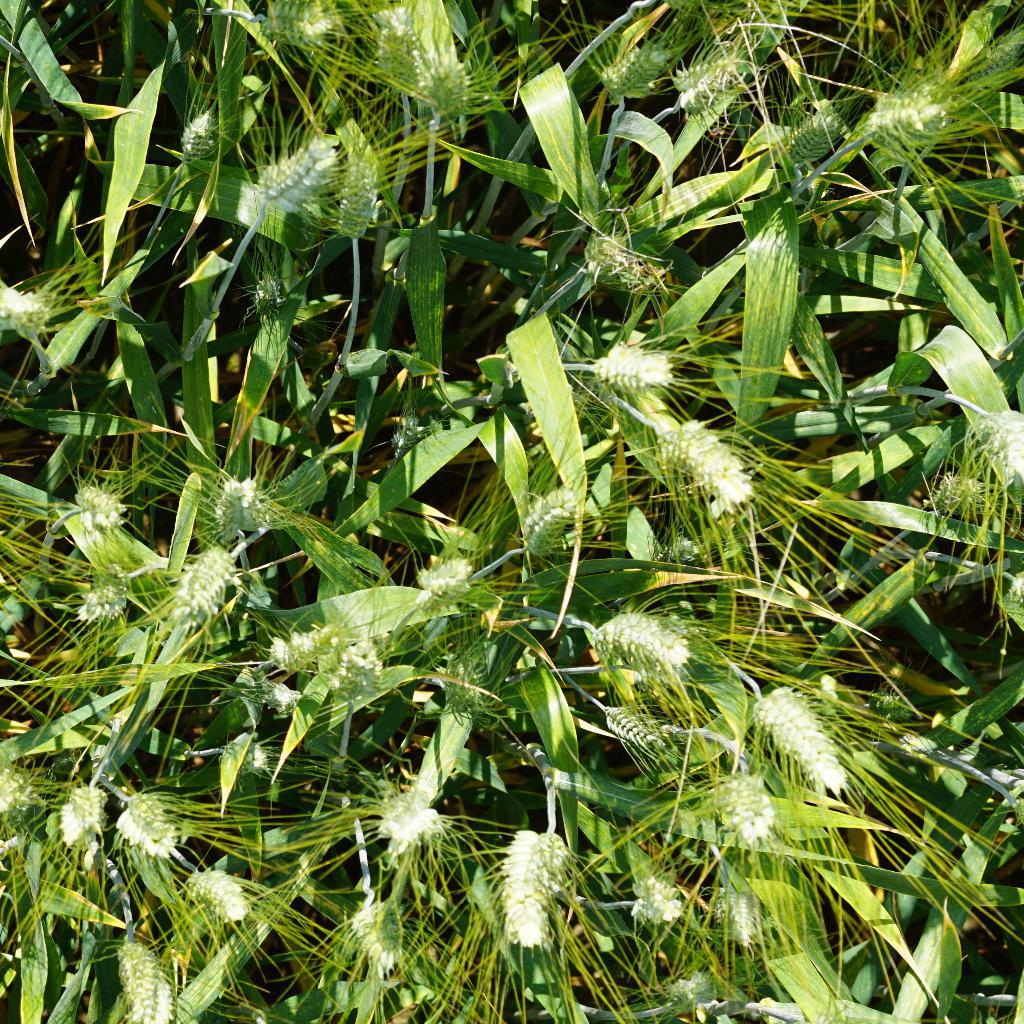0-0: (744, 665, 859, 808), (645, 407, 766, 514), (500, 811, 574, 975), (575, 602, 699, 680), (399, 47, 501, 135), (171, 535, 250, 634), (342, 877, 425, 971), (572, 225, 673, 301), (114, 925, 189, 1024), (254, 124, 337, 212), (860, 77, 955, 150), (507, 479, 582, 571), (362, 784, 449, 862), (671, 49, 759, 126), (595, 688, 694, 754), (594, 34, 690, 100), (175, 856, 264, 926), (55, 769, 120, 864), (716, 878, 783, 970), (202, 458, 272, 542), (953, 27, 1024, 109), (368, 0, 429, 92), (331, 149, 380, 258), (713, 772, 784, 847), (262, 0, 352, 58), (438, 646, 506, 722), (268, 615, 347, 680), (408, 552, 485, 617), (324, 630, 390, 705), (781, 98, 845, 175), (68, 548, 135, 620), (114, 788, 183, 855), (972, 400, 1024, 488), (585, 336, 676, 385), (630, 873, 699, 937), (64, 467, 129, 531), (0, 279, 58, 346), (643, 530, 713, 580), (925, 469, 996, 518), (175, 102, 224, 167), (663, 964, 721, 1017), (0, 752, 43, 822), (220, 735, 273, 783), (389, 404, 433, 459), (864, 689, 923, 726), (254, 269, 290, 329), (253, 679, 305, 714)
